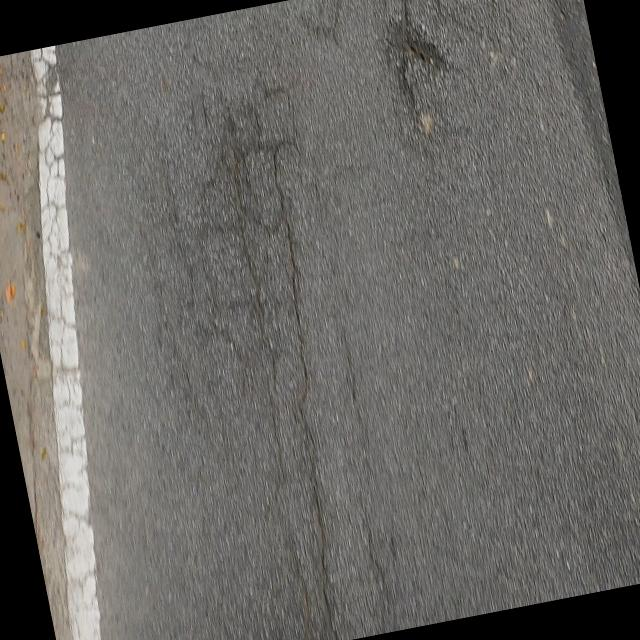Retak-Buaya: (178, 85, 335, 627), (32, 50, 87, 467)
